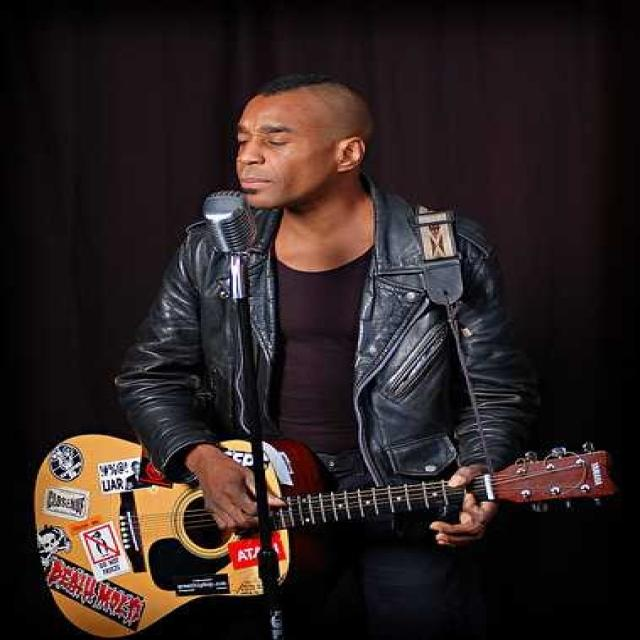microphone: (201, 190, 261, 308)
